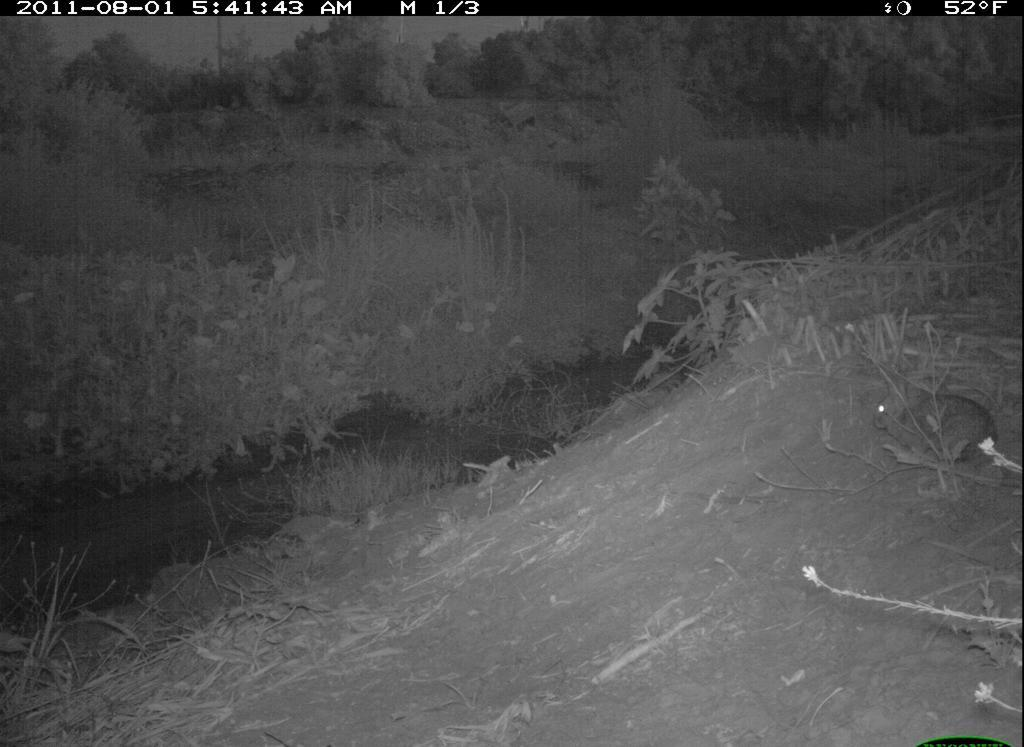rabbit: (859, 368, 1009, 479)
